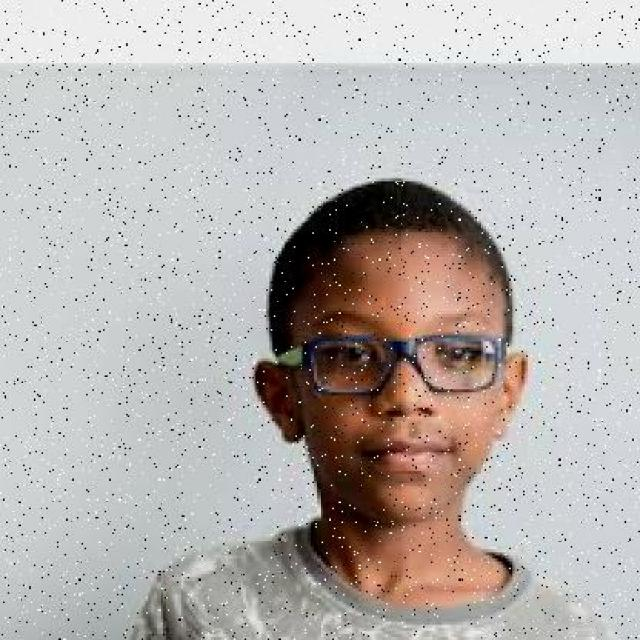glasses: (299, 326, 504, 405)
